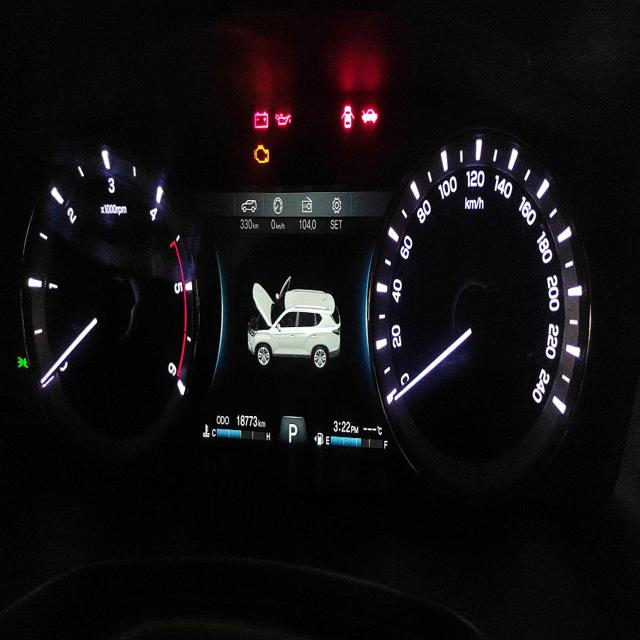odometer: (234, 411, 259, 430)
